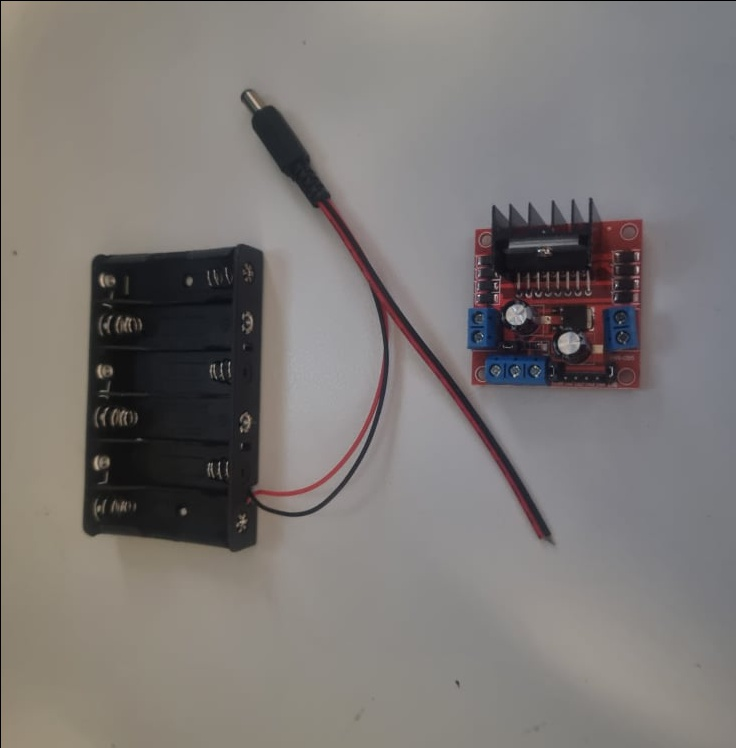BATTERY BOX: (84, 242, 260, 553)
MOTOR: (466, 197, 640, 388)
